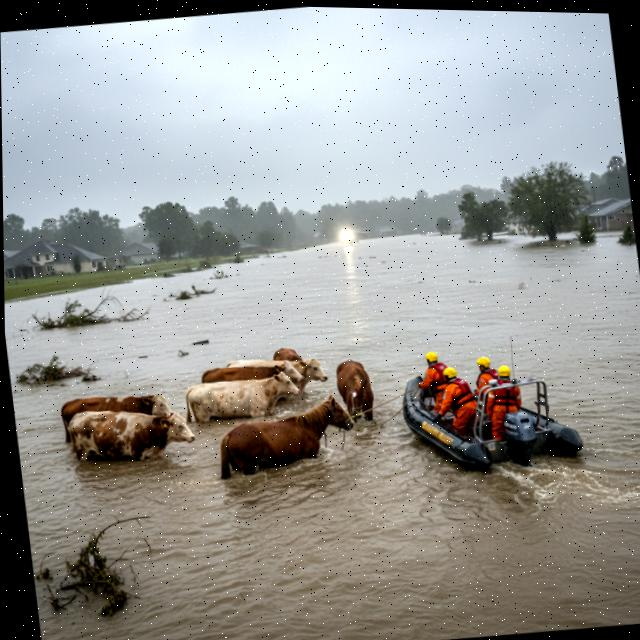cow: (61, 392, 208, 488), (49, 380, 181, 450), (176, 366, 299, 427), (225, 346, 334, 407), (195, 356, 304, 404), (270, 344, 303, 368)
horse: (206, 387, 363, 487), (331, 355, 381, 429)
rescuer: (436, 361, 491, 454), (480, 355, 529, 440), (413, 345, 454, 410), (466, 349, 505, 408)
